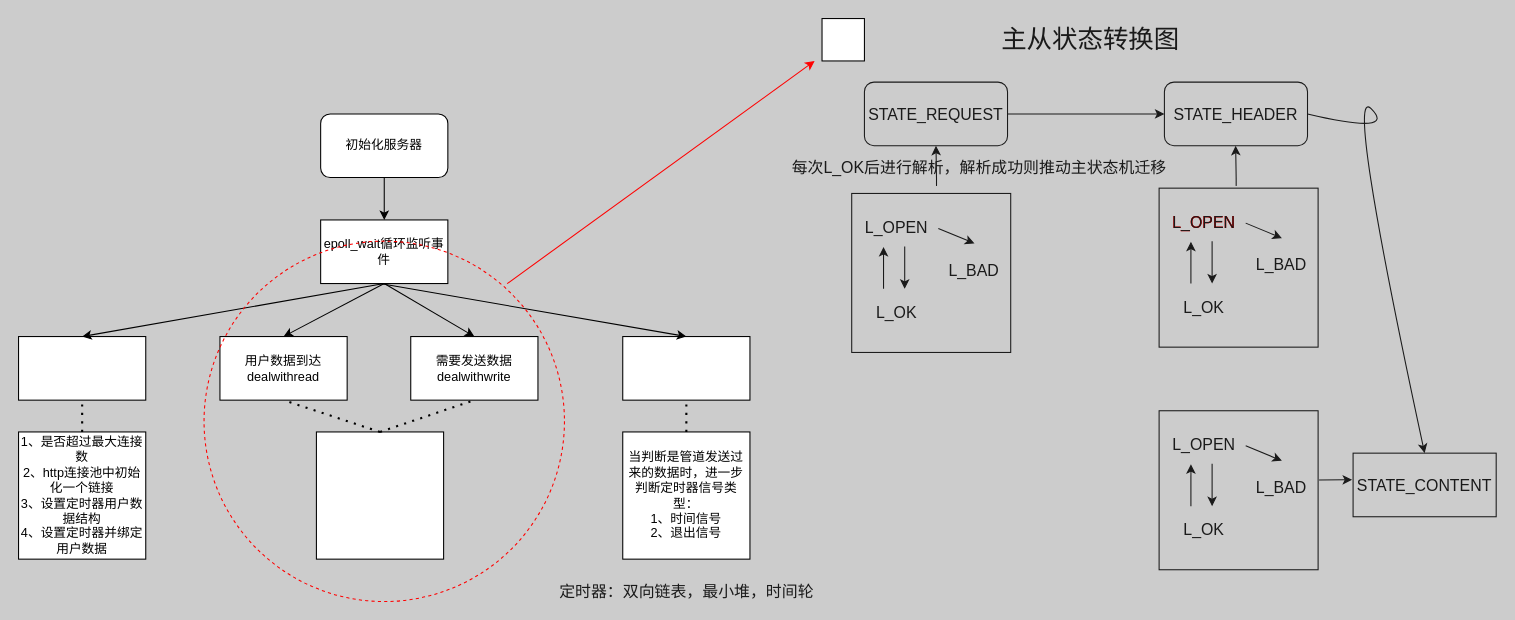
Some shapes in this 1515 by 620 pixel diagram are drawn without their labels. Each missing label, with the centre of its shape:
1、根据fd号，调整对应定时器时间 2、取得对应的http链接事件，并入队到线程池工作队列中: point 379,495
http链接类: point 842,39
定时器事件 dealwithsignal: point 686,367
新用户链接 dealclientdata: point 81,367
